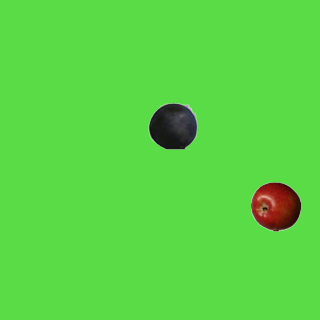Apple Braeburn: (250, 181, 300, 231)
Grape Blue: (147, 100, 197, 150)
